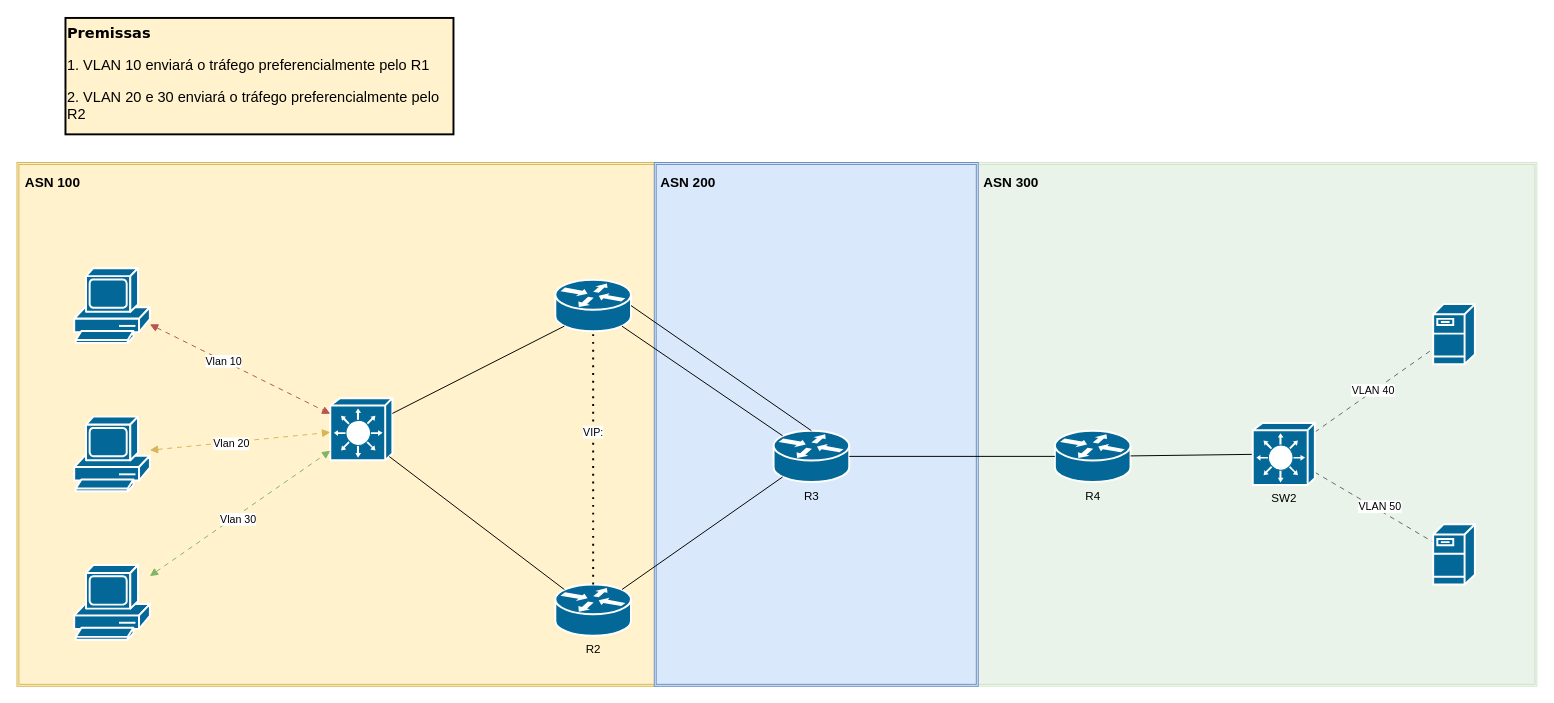
The diagram is 1554 pixels wide and 703 high, and some of its shapes have lost their labels. Each missing label, with the box of its shape:
R1: (554, 278, 631, 332)
SW1: (329, 397, 393, 461)
